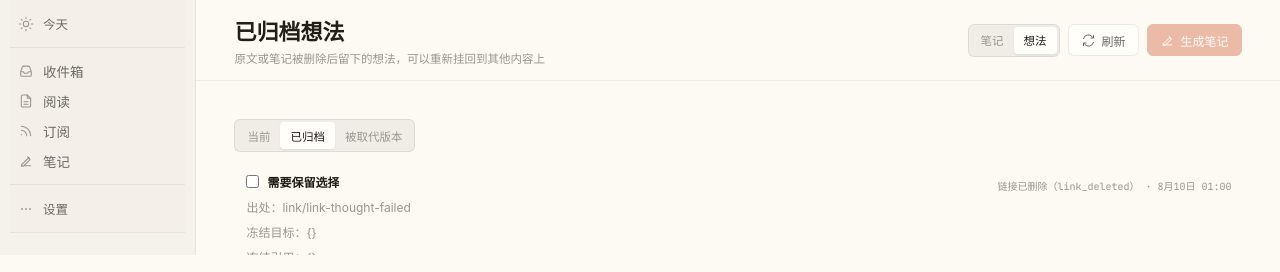
Test: ThoughtHistorySurface › shows a creation failure, keeps the selection, and does not navigate
Check: the text "需要保留选择" is shown, box [267,173,339,190]
Click the checkbox named "选择想法 thought-failed": [253, 182] box [246,175,259,188]
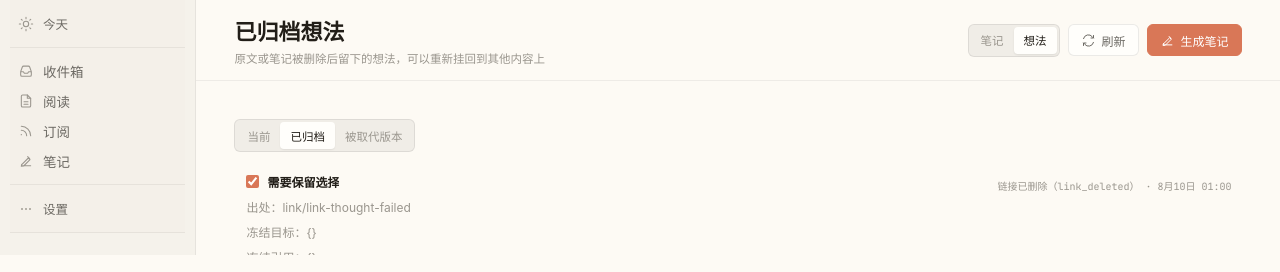
Click the button "生成笔记": [1194, 40] box [1147,24,1242,56]
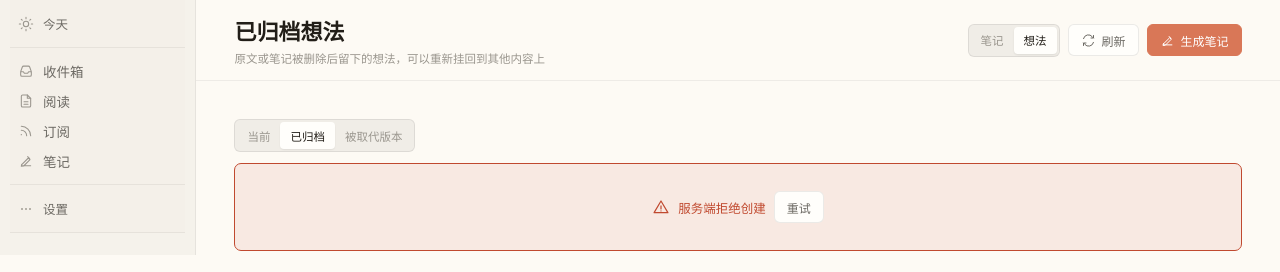
Check: the message shows "服务端拒绝创建", box [678,201,766,216]
